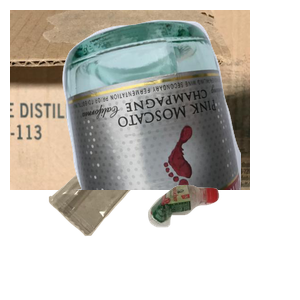cardboard: (10, 10, 250, 190)
glass: (60, 17, 300, 197)
plastic: (146, 182, 300, 300)
trash: (46, 144, 188, 300)
